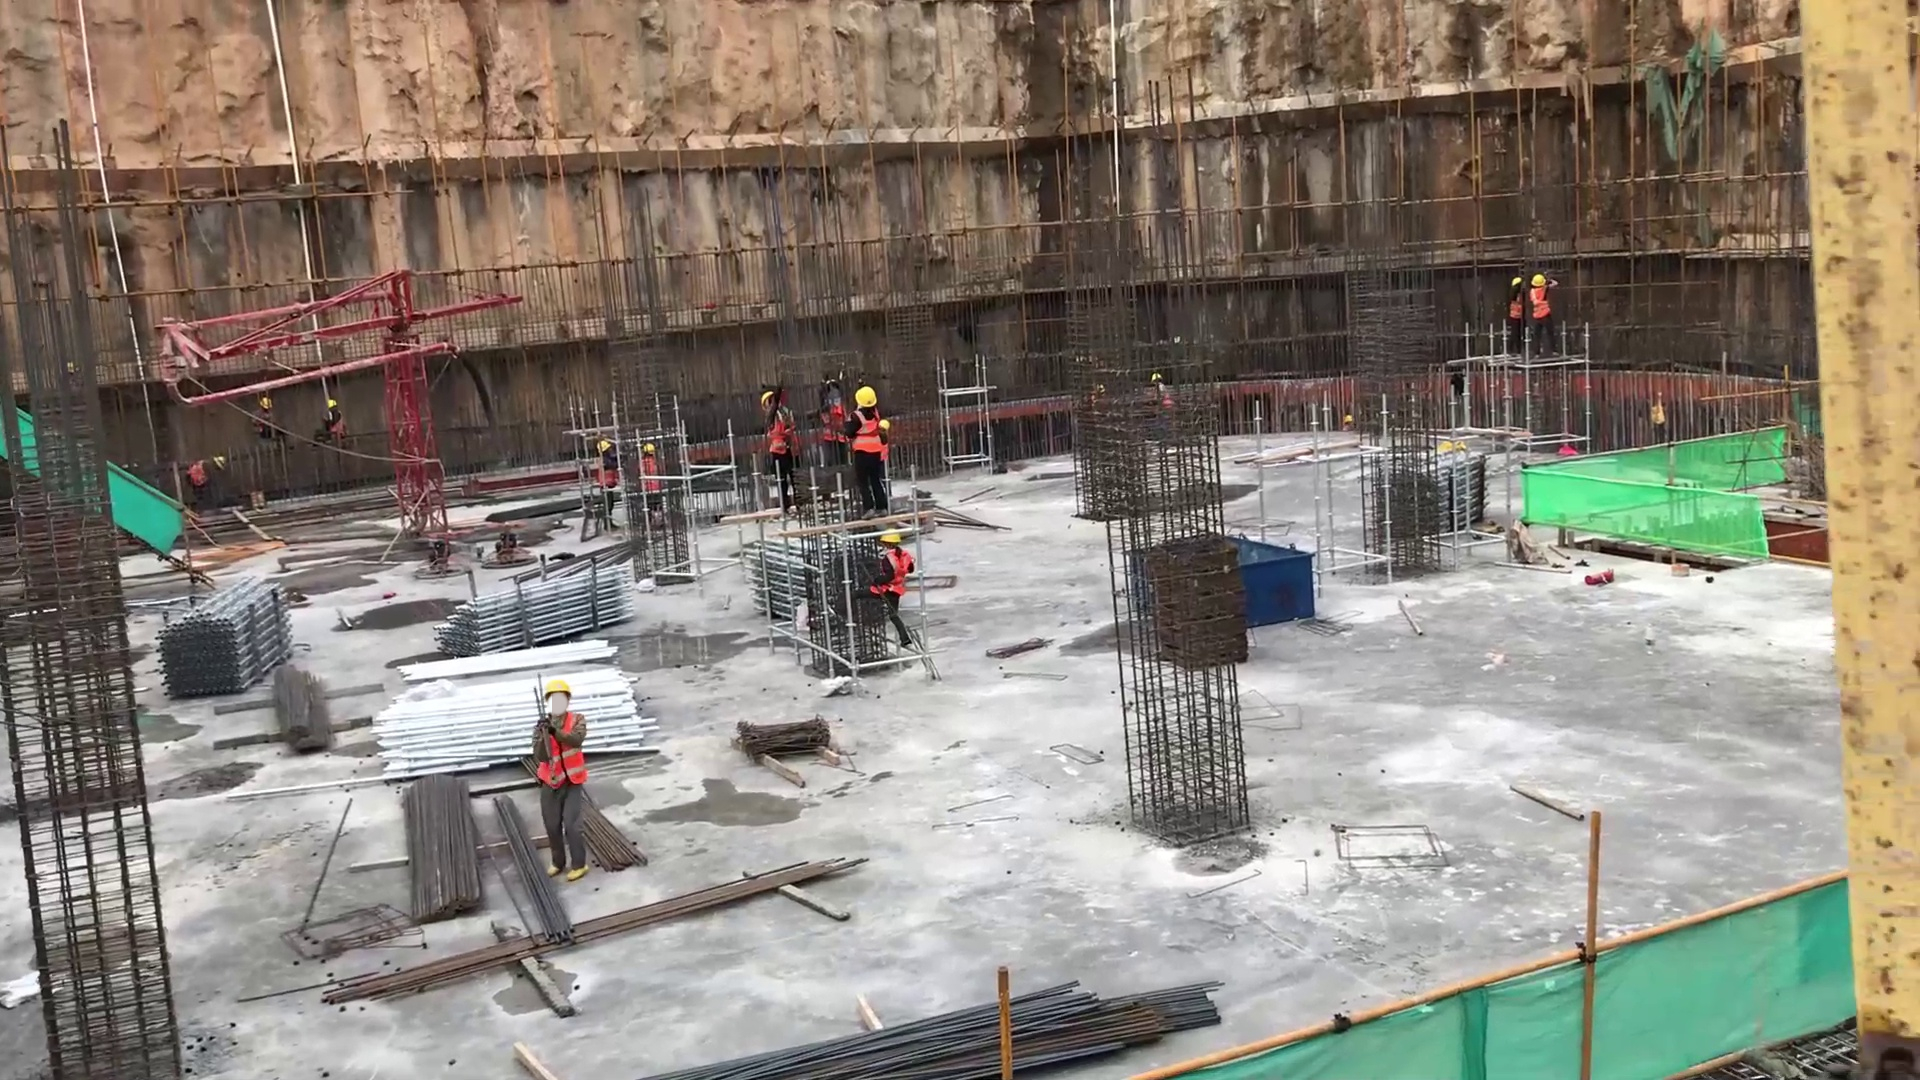helmet: (850, 383, 882, 409), (1504, 272, 1554, 287), (542, 677, 574, 695), (880, 528, 902, 548), (593, 435, 613, 450)
person: (525, 678, 595, 887), (859, 532, 921, 649), (845, 386, 890, 517), (1503, 269, 1560, 359), (755, 386, 793, 491), (821, 375, 849, 469), (183, 451, 224, 508), (593, 437, 619, 519), (637, 444, 660, 529), (317, 399, 344, 446), (254, 399, 284, 433)
vest: (532, 711, 586, 798), (875, 547, 913, 603), (853, 410, 887, 459)
